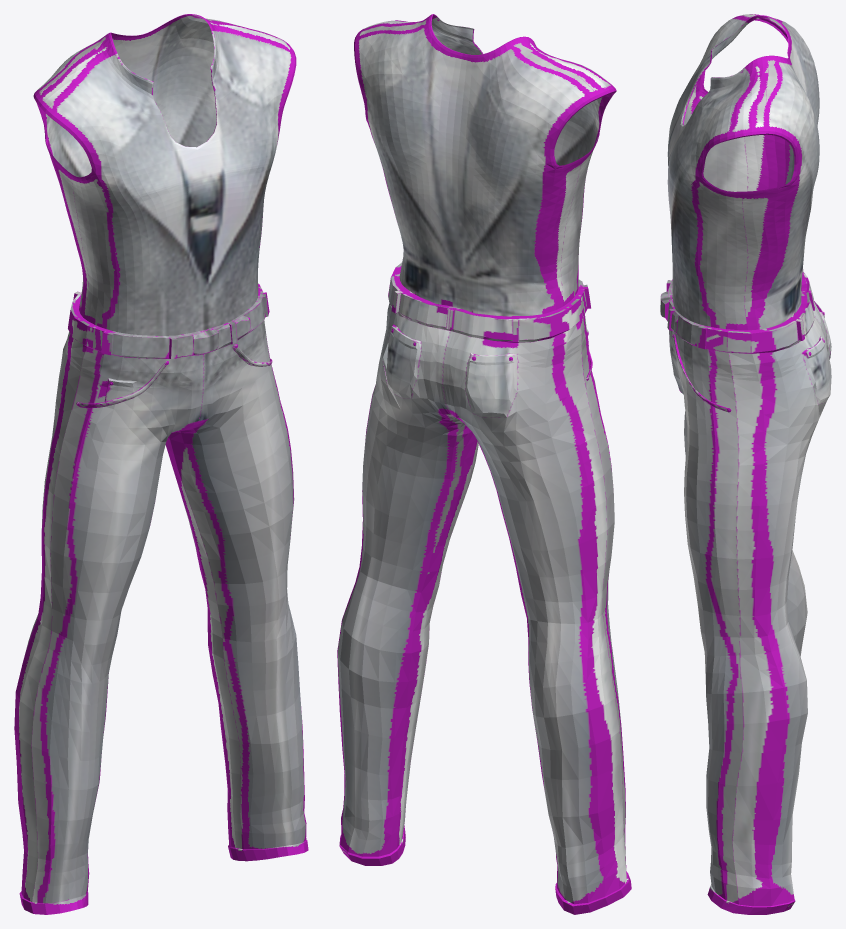
3 views of the same model, side by side, from view 1: azimuth 30°, elevation 25°; view 2: azimuth 150°, elevation 25°; view 3: azimuth 270°, elevation 25° (orthographic). The views are drawn at different scales.
Bounding box in the file's own units: 0.2899 × 0.8538 × 0.1607.
Materials: 1 (1 with a texture image).
